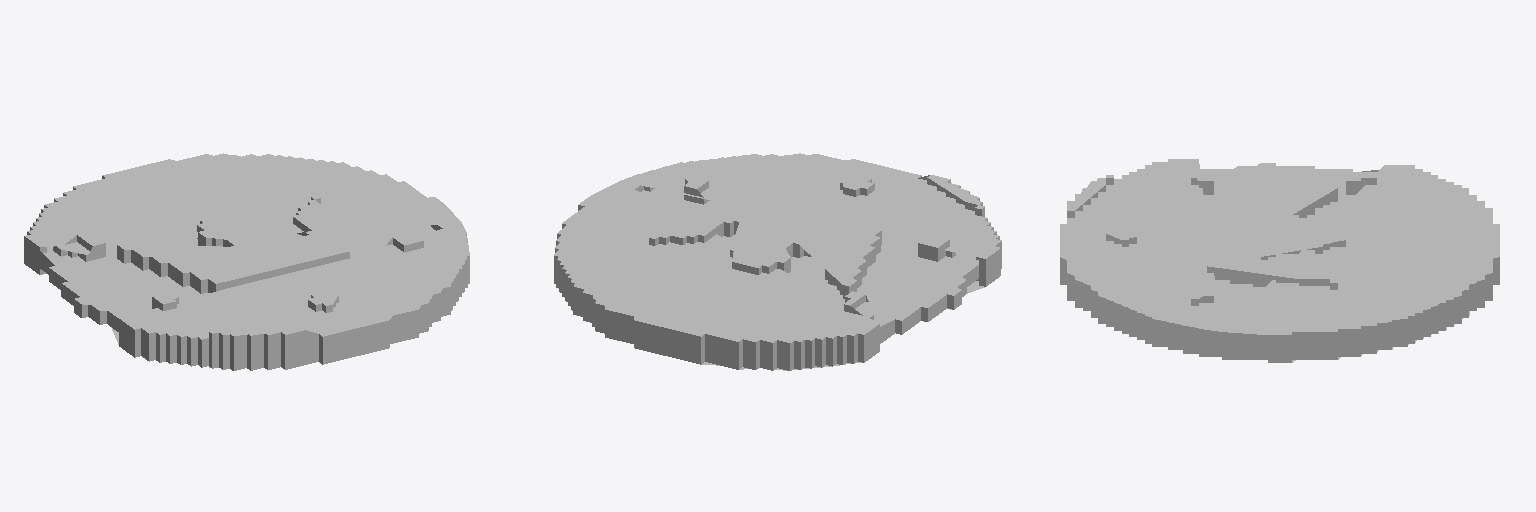
File: brockenor.obj
The picture shows the model from 3 angles: view 1: azimuth 30°, elevation 25°; view 2: azimuth 150°, elevation 25°; view 3: azimuth 270°, elevation 25°; orthographic projection.
Parts seen in each view (by area): view 1: Piece_de_monnaie_abime; view 2: Piece_de_monnaie_abime; view 3: Piece_de_monnaie_abime.
Boxes of the visible parts, <box> form: Piece_de_monnaie_abime: <box>24,153,469,370</box>; Piece_de_monnaie_abime: <box>554,153,1001,370</box>; Piece_de_monnaie_abime: <box>1060,159,1499,362</box>.
Bounding box in the file's own units: 0.0222 × 0.002 × 0.023.